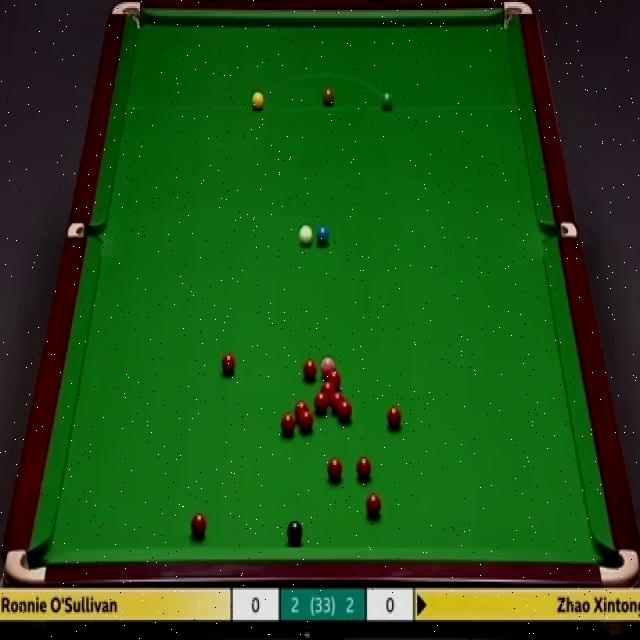black-ball: (287, 518, 303, 546)
blue-ball: (315, 224, 330, 248)
brown-ball: (322, 89, 334, 107)
green-ball: (381, 91, 393, 111)
pink-ball: (321, 356, 336, 371)
red-ball: (365, 493, 382, 519), (191, 513, 208, 538), (302, 358, 318, 383), (299, 410, 315, 432), (356, 458, 372, 480), (387, 407, 403, 429), (338, 399, 353, 422), (222, 351, 236, 375), (328, 458, 343, 480), (281, 413, 296, 434), (313, 393, 329, 411), (330, 392, 345, 410), (294, 398, 308, 416), (319, 381, 337, 394), (326, 371, 343, 382)
white-ball: (297, 223, 313, 245)
yellow-ball: (251, 89, 265, 111)
